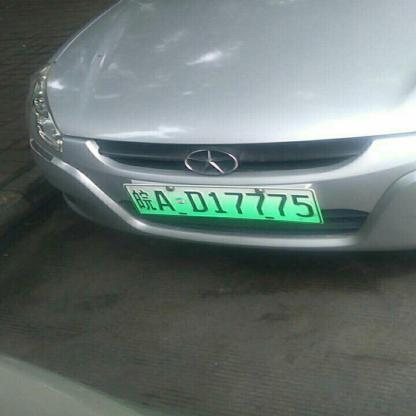lp: (124, 185, 323, 221)
